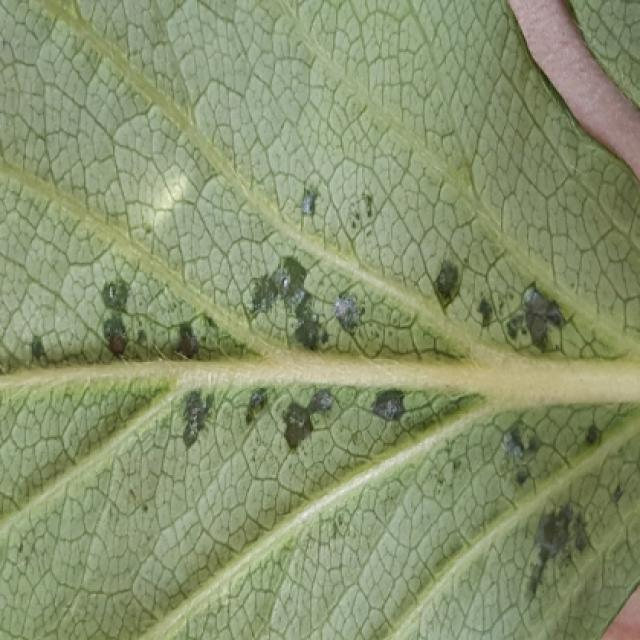Angular Leafspot: (13, 167, 637, 616)
